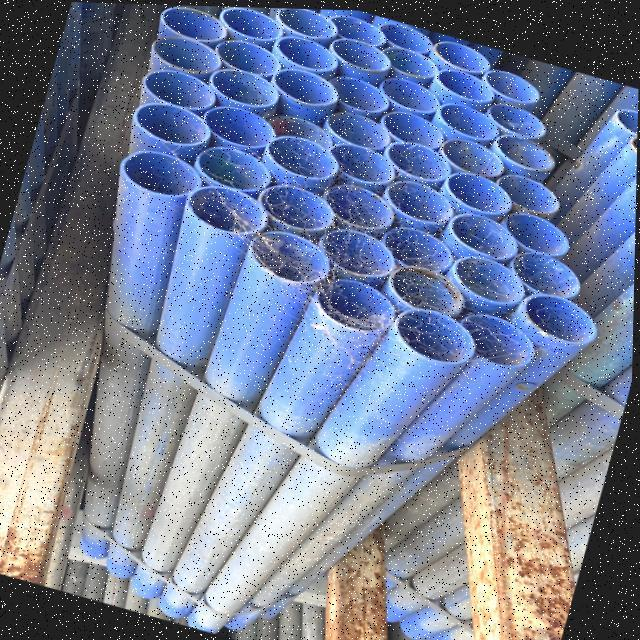pipe: (313, 269, 398, 328), (246, 224, 326, 281), (394, 302, 474, 358), (318, 174, 395, 231), (487, 204, 571, 256), (456, 307, 534, 362), (184, 179, 263, 233), (370, 223, 455, 272), (384, 171, 454, 230), (503, 243, 580, 296), (319, 224, 397, 276), (193, 137, 269, 190), (388, 258, 464, 311), (521, 287, 595, 340), (120, 149, 203, 196), (200, 102, 276, 153), (453, 248, 524, 302), (141, 64, 222, 111), (257, 178, 331, 229), (444, 206, 519, 256), (131, 100, 212, 146), (486, 167, 561, 216), (264, 131, 335, 180), (439, 163, 510, 212), (325, 139, 394, 189), (314, 69, 390, 113), (205, 35, 288, 74), (201, 65, 278, 107), (380, 137, 450, 183), (321, 104, 393, 148), (372, 105, 449, 145), (434, 130, 504, 174), (481, 89, 546, 136), (489, 127, 552, 172), (374, 71, 437, 115), (161, 5, 231, 44), (435, 96, 498, 139), (319, 32, 388, 71), (155, 27, 219, 69), (269, 63, 334, 103), (376, 36, 434, 77), (214, 5, 278, 42), (432, 64, 493, 102), (263, 113, 335, 145), (273, 30, 332, 69), (479, 62, 538, 100), (426, 33, 488, 69), (269, 6, 332, 36), (323, 13, 378, 44), (376, 18, 425, 48), (612, 101, 638, 127)
